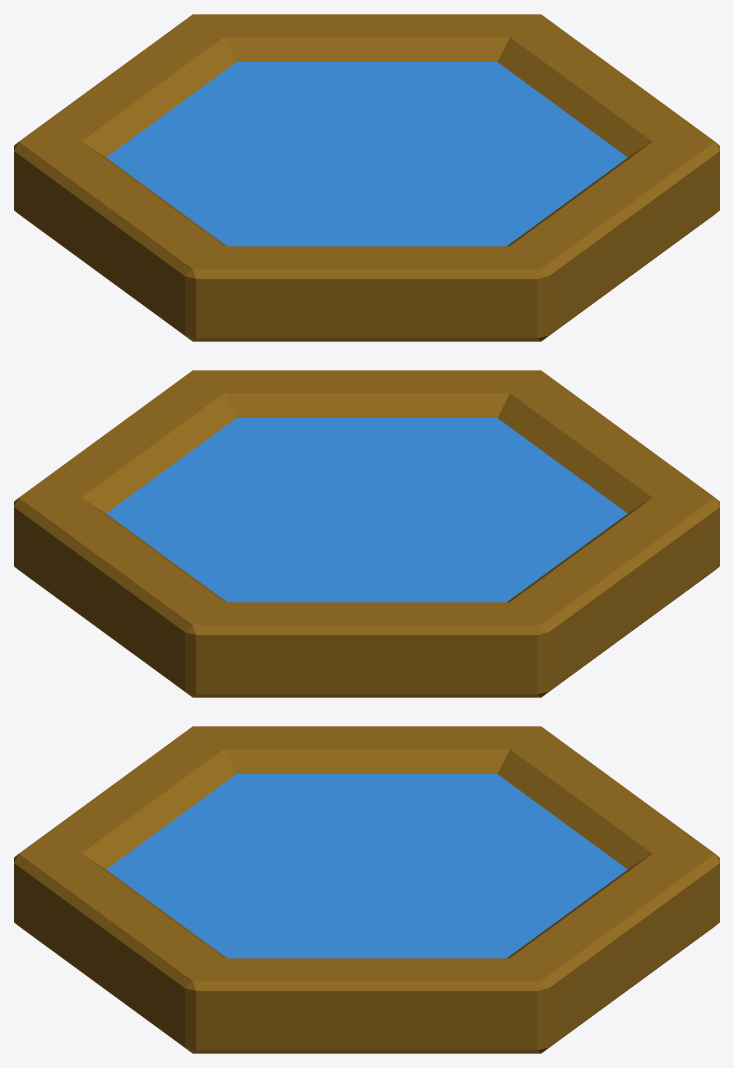
File: Tile_03.fbx
The picture shows the model from 3 angles, top to bottom: view 1: azimuth 30°, elevation 25°; view 2: azimuth 150°, elevation 25°; view 3: azimuth 270°, elevation 25°; orthographic projection.
Parts seen in each view (by area): view 1: Cylinder.002; view 2: Cylinder.002; view 3: Cylinder.002.
Boxes of the visible parts, box(x1,y1,x2,y2) form: Cylinder.002: box(14, 14, 719, 341); Cylinder.002: box(14, 370, 719, 697); Cylinder.002: box(14, 726, 719, 1053).
Size of the model in its own units: 329 by 42.72 by 376.
